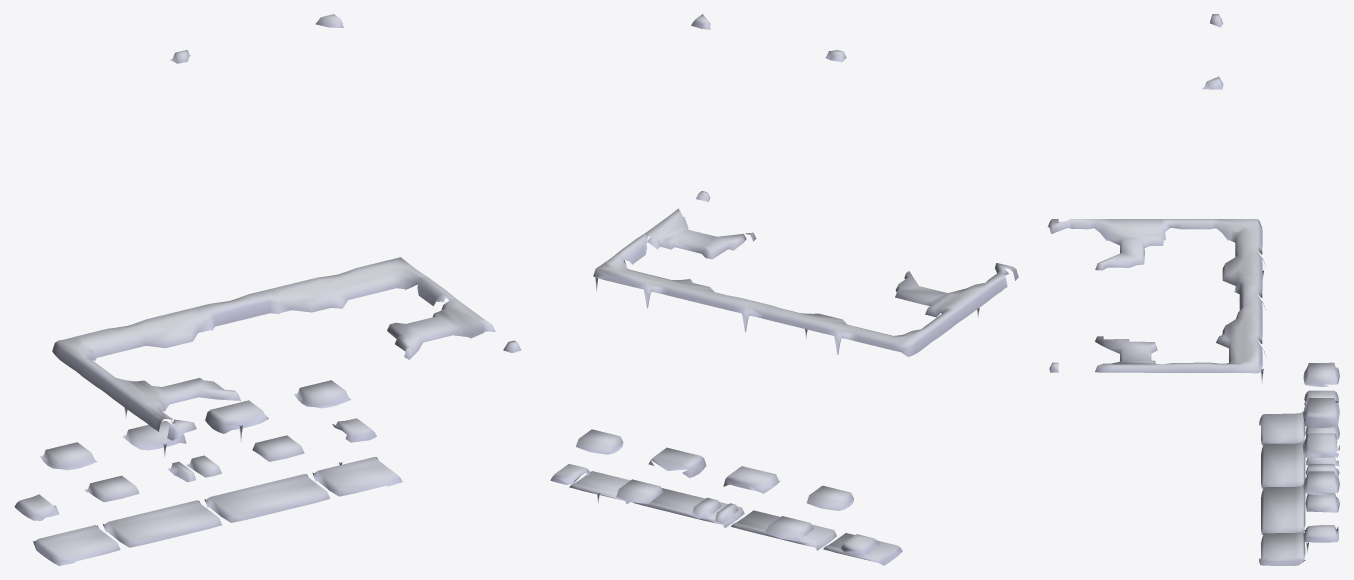
File: hall.wallet.t6.snow.glb
3 renders of one model, left to right at view 1: azimuth 30°, elevation 25°; view 2: azimuth 150°, elevation 25°; view 3: azimuth 270°, elevation 25°, orthographic. The views are drawn at different scales.
Parts seen in each view (by area): view 1: snow; view 2: snow; view 3: snow.
Boxes of the visible parts, x1=… form: snow: x1=14, y1=14, x2=521, y2=565; snow: x1=550, y1=14, x2=1018, y2=565; snow: x1=1047, y1=14, x2=1339, y2=565.
Size of the model in its own units: 4.18 by 5.78 by 3.42.
